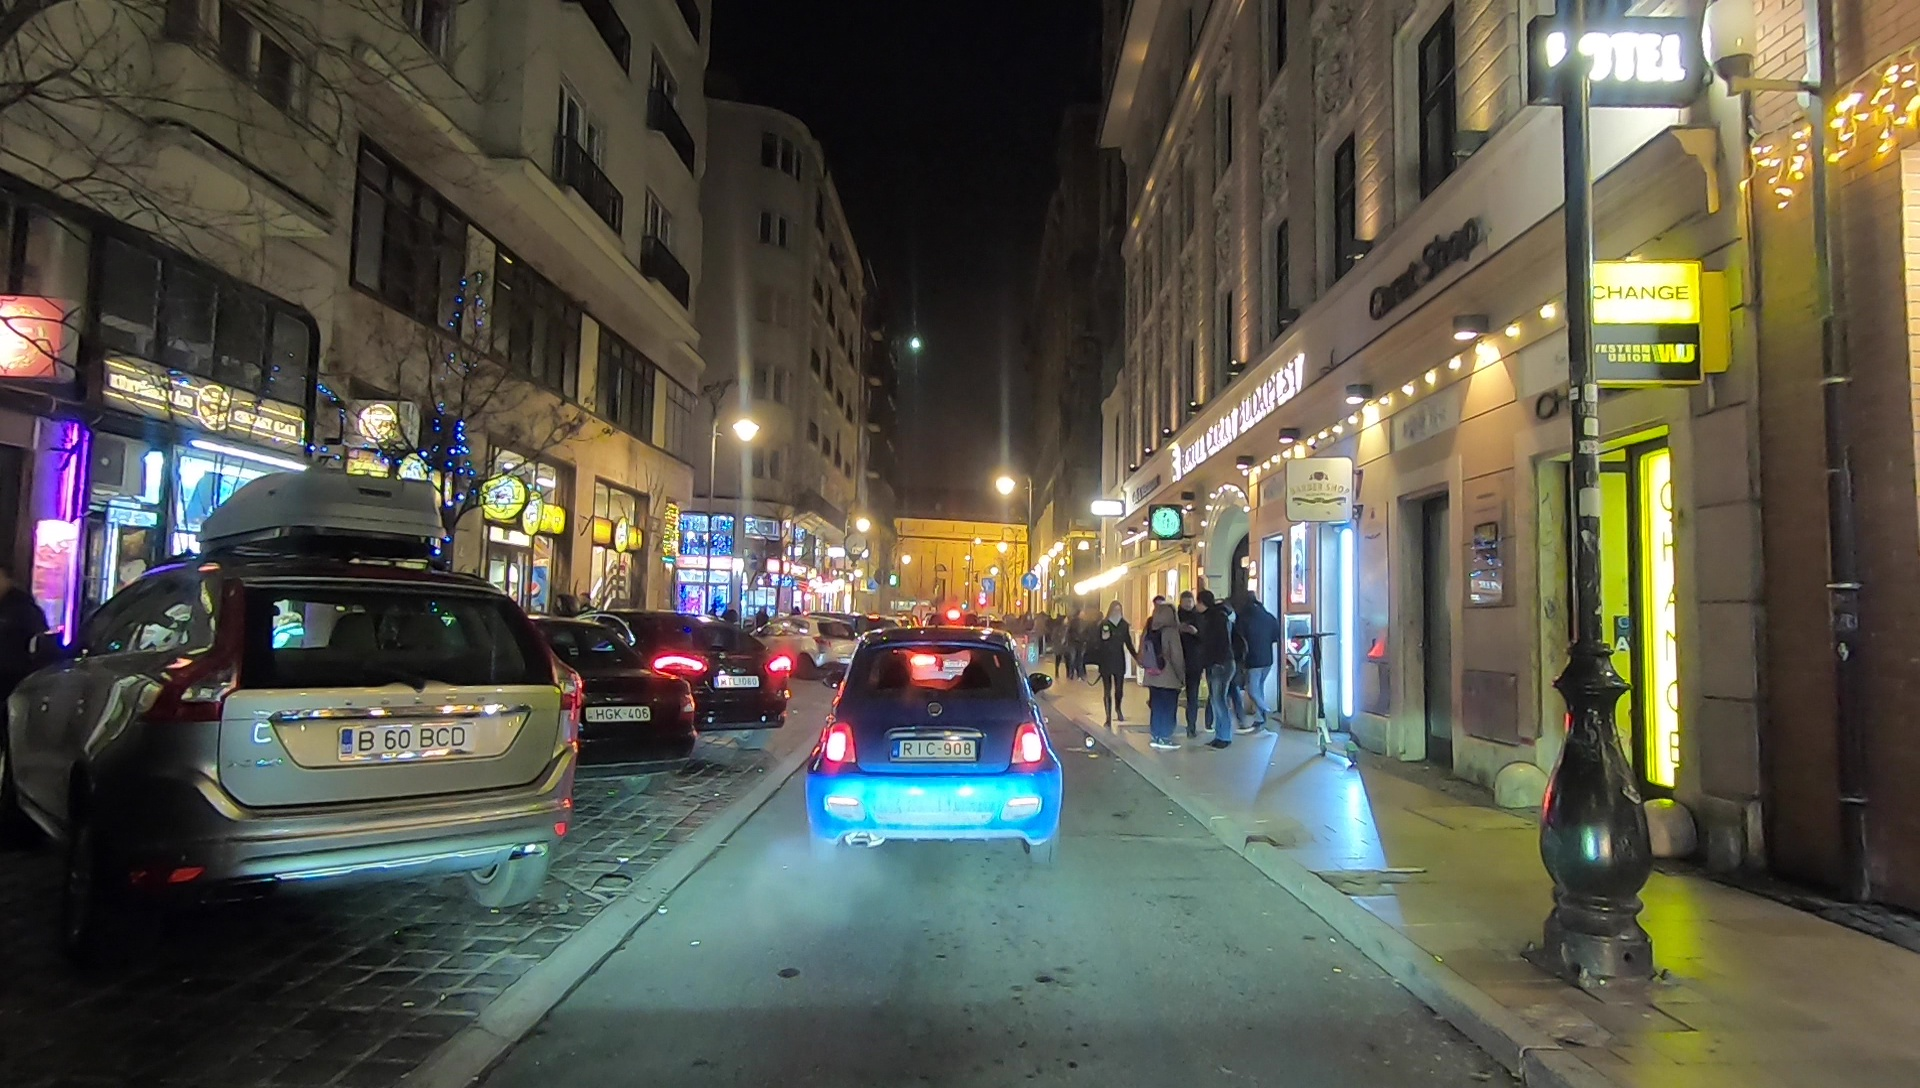person: (1140, 602, 1188, 748), (1198, 592, 1239, 752), (1096, 597, 1133, 731), (1239, 596, 1277, 728), (1176, 589, 1203, 742), (1053, 610, 1073, 678), (1073, 608, 1092, 677)
